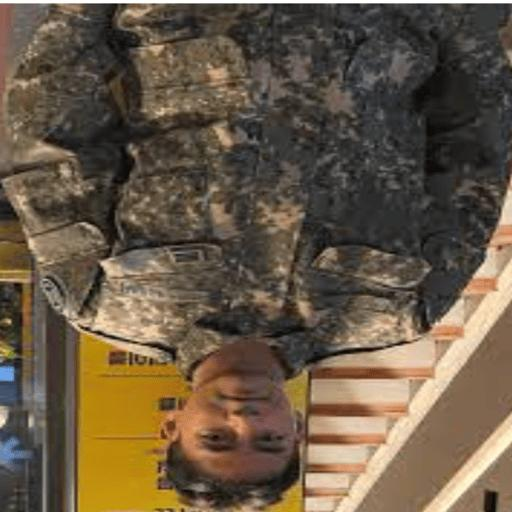korea army: (2, 5, 505, 354)
